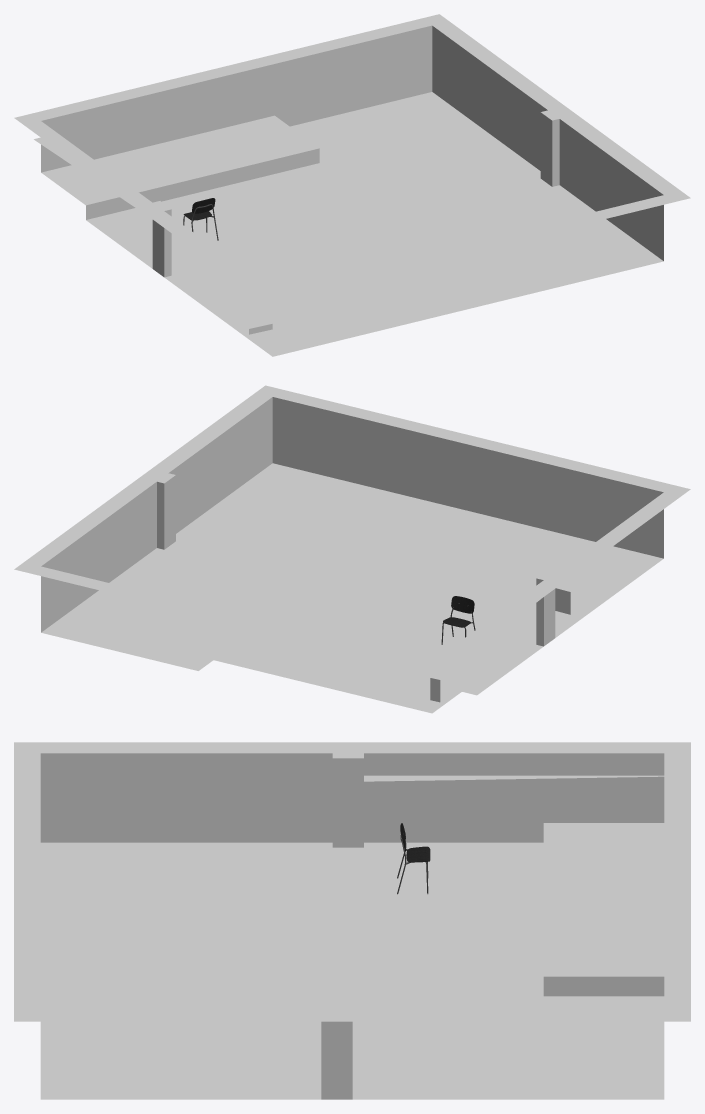
File: salon de clases.glb
3 renders of one model, top to bottom at view 1: azimuth 30°, elevation 25°; view 2: azimuth 150°, elevation 25°; view 3: azimuth 270°, elevation 25°, orthographic. The views are drawn at different scales.
Visible parts, largest first — view 1: Geom3D_piso y techo, Geom3D; view 2: Geom3D_piso y techo, Geom3D (×2); view 3: Geom3D_piso y techo, Geom3D.
Boxes of the visible parts, <box> form: Geom3D_piso y techo: <box>14,14,690,356</box>; Geom3D: <box>152,110,559,334</box>; Geom3D_piso y techo: <box>14,385,690,713</box>; Geom3D (×2): <box>157,473,570,646</box>; Geom3D_piso y techo: <box>14,742,690,1099</box>; Geom3D: <box>321,753,363,1099</box>.
Bounding box in the file's own units: 8.6 × 1.26 × 8.68.
Materials: 4 (1 with a texture image).
